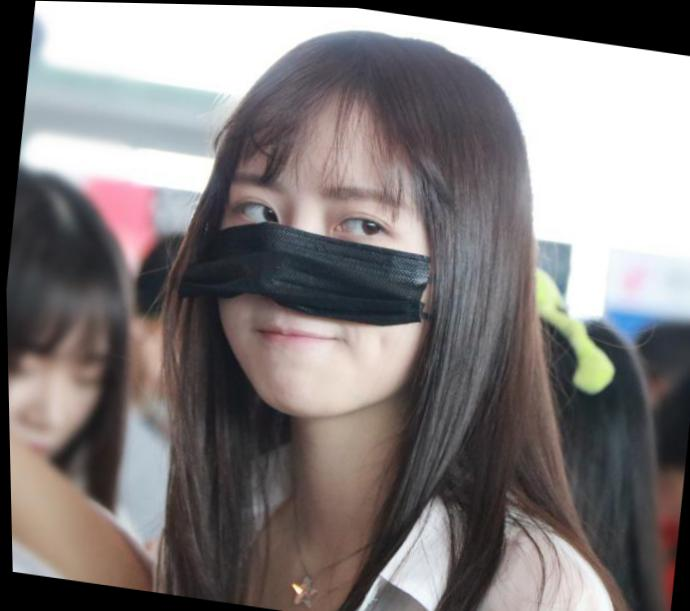NONE: (7, 320, 125, 515)
WRONG: (187, 131, 459, 431)
